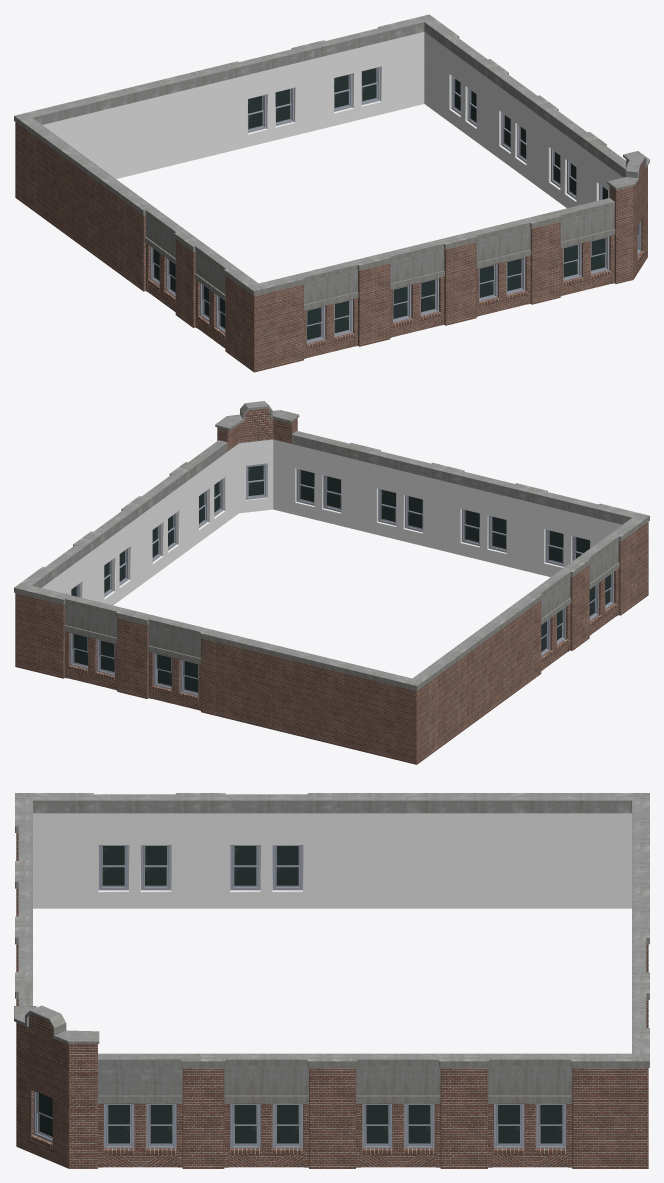
Rendered from Building_LevelModular_Top.fbx.
3 views of the same model, one above another, from view 1: azimuth 30°, elevation 25°; view 2: azimuth 150°, elevation 25°; view 3: azimuth 270°, elevation 25° (orthographic). The views are drawn at different scales.
Visible parts, largest first — view 1: Building_LevelModular_Top_LOD0; view 2: Building_LevelModular_Top_LOD0; view 3: Building_LevelModular_Top_LOD0.
Boxes of the visible parts, bbox=[...] form: Building_LevelModular_Top_LOD0: bbox=[14, 14, 649, 372]; Building_LevelModular_Top_LOD0: bbox=[14, 401, 649, 764]; Building_LevelModular_Top_LOD0: bbox=[14, 793, 649, 1168].
Size of what is drawn, in the model's own units: 2414 by 601 by 2414.
